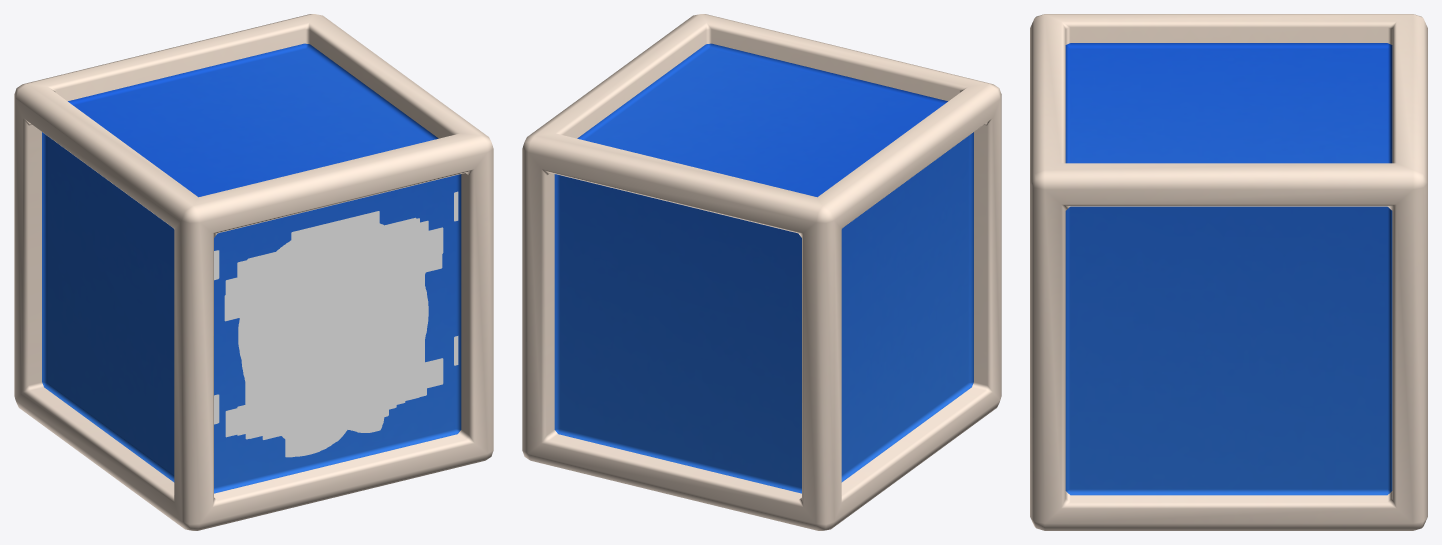
File: ABCBlocks.fbx
3 views of the same model, side by side, from view 1: azimuth 30°, elevation 25°; view 2: azimuth 150°, elevation 25°; view 3: azimuth 270°, elevation 25° (orthographic). The views are drawn at different scales.
Parts seen in each view (by area): view 1: blue, A, B, C, S, J, M, K, I, D, Q, G (+1 smaller); view 2: blue; view 3: blue.
Boxes of the visible parts, box(x1,y1,x2,y2) form: blue: box(14, 14, 493, 530); A: box(248, 231, 418, 438); B: box(260, 241, 410, 420); C: box(246, 230, 419, 429); S: box(279, 231, 386, 427); J: box(214, 191, 458, 457); M: box(225, 227, 443, 437); K: box(237, 218, 424, 435); I: box(289, 229, 388, 439); D: box(247, 261, 425, 438); Q: box(238, 223, 384, 438); G: box(241, 240, 357, 406); blue: box(522, 14, 1001, 530); blue: box(1030, 14, 1427, 530).
Bounding box in the file's own units: 200 × 200 × 200.
